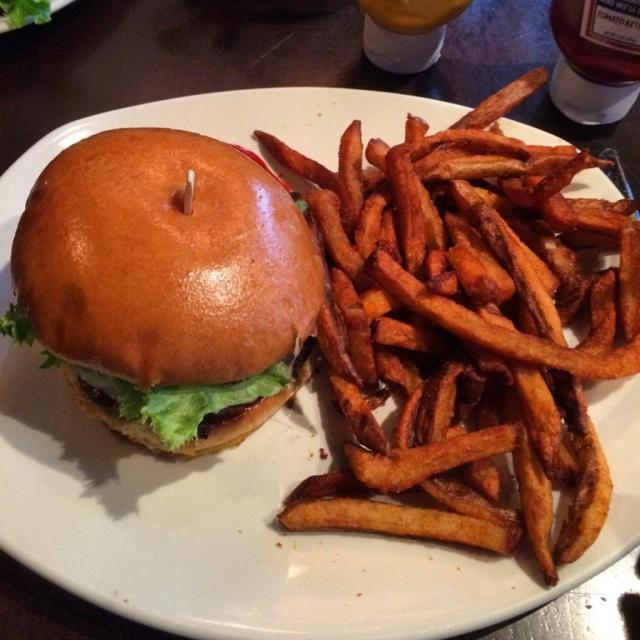Hamburger: (0, 127, 331, 459)
